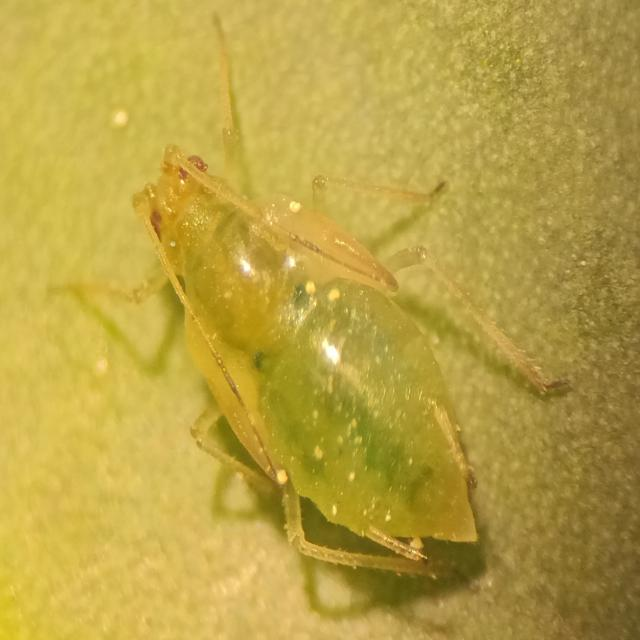Aphid-Grown-: (99, 120, 499, 568)
